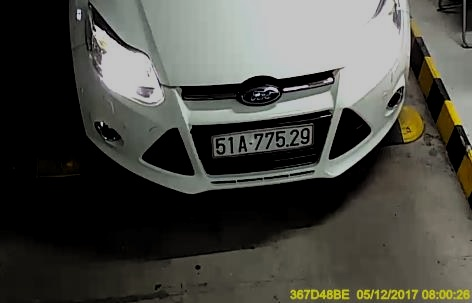plate: (209, 125, 315, 157)
